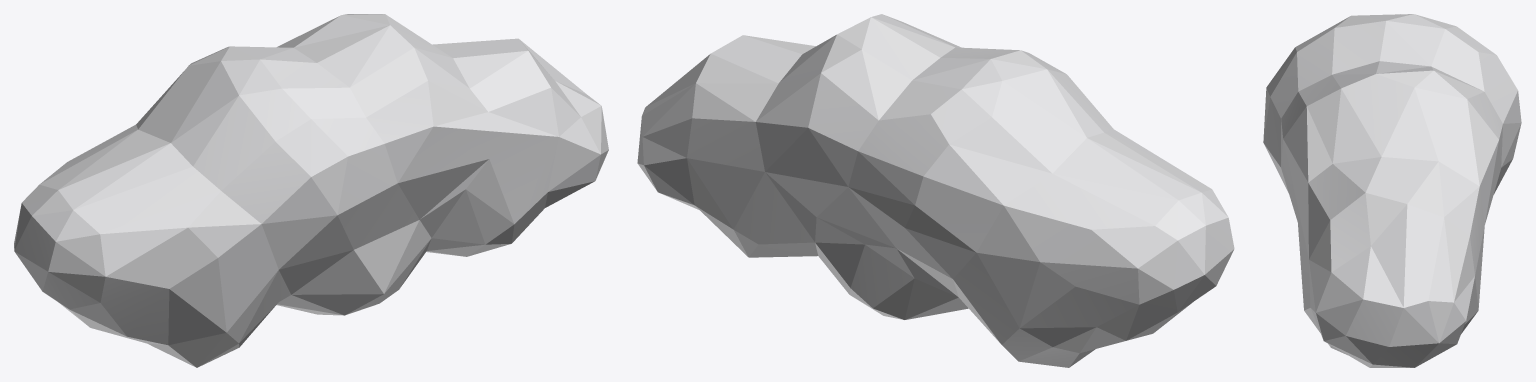
The model's file is big_cloud_1.fbx.
3 views of the same model, side by side, from view 1: azimuth 30°, elevation 25°; view 2: azimuth 150°, elevation 25°; view 3: azimuth 270°, elevation 25° (orthographic).
Visible parts, largest first — view 1: cloud_41; view 2: cloud_41; view 3: cloud_41.
Boxes of the visible parts, box(x1,y1,x2,y2) form: cloud_41: box(14, 14, 608, 367); cloud_41: box(637, 14, 1234, 367); cloud_41: box(1263, 14, 1521, 367).
Size of the model in its own units: 758 by 365 by 299.
